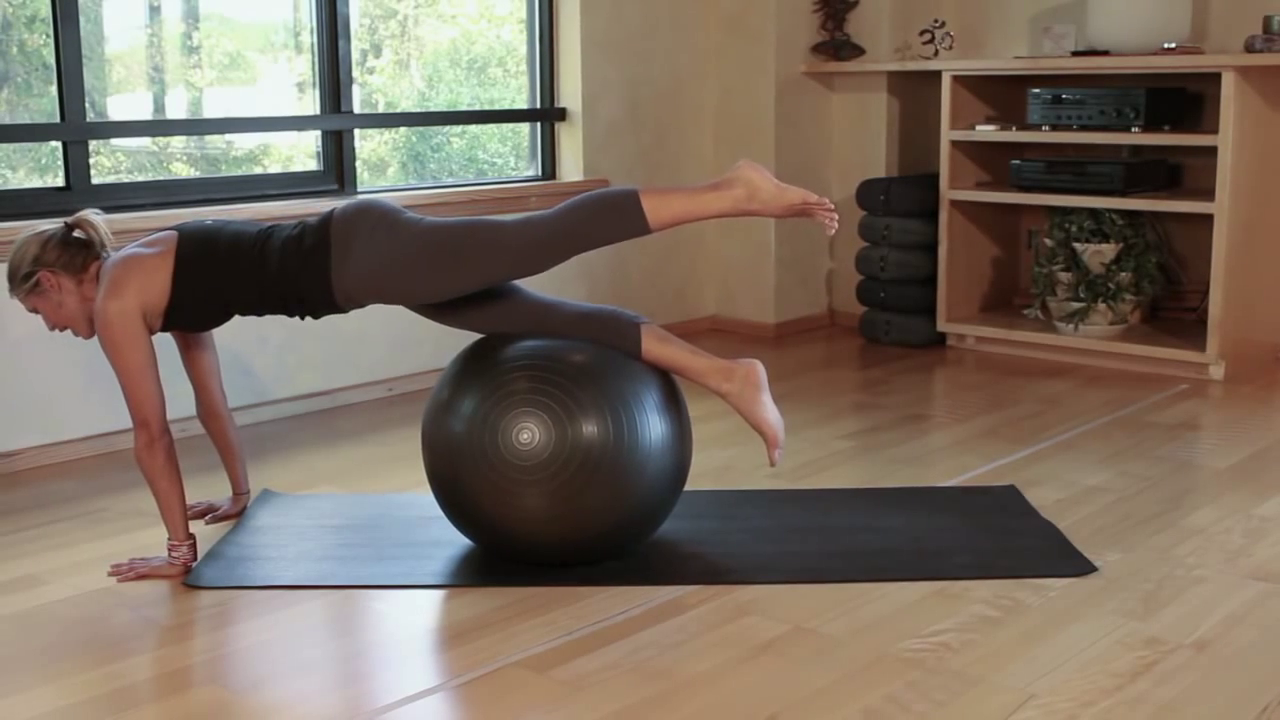yogaball: (411, 332, 697, 565)
